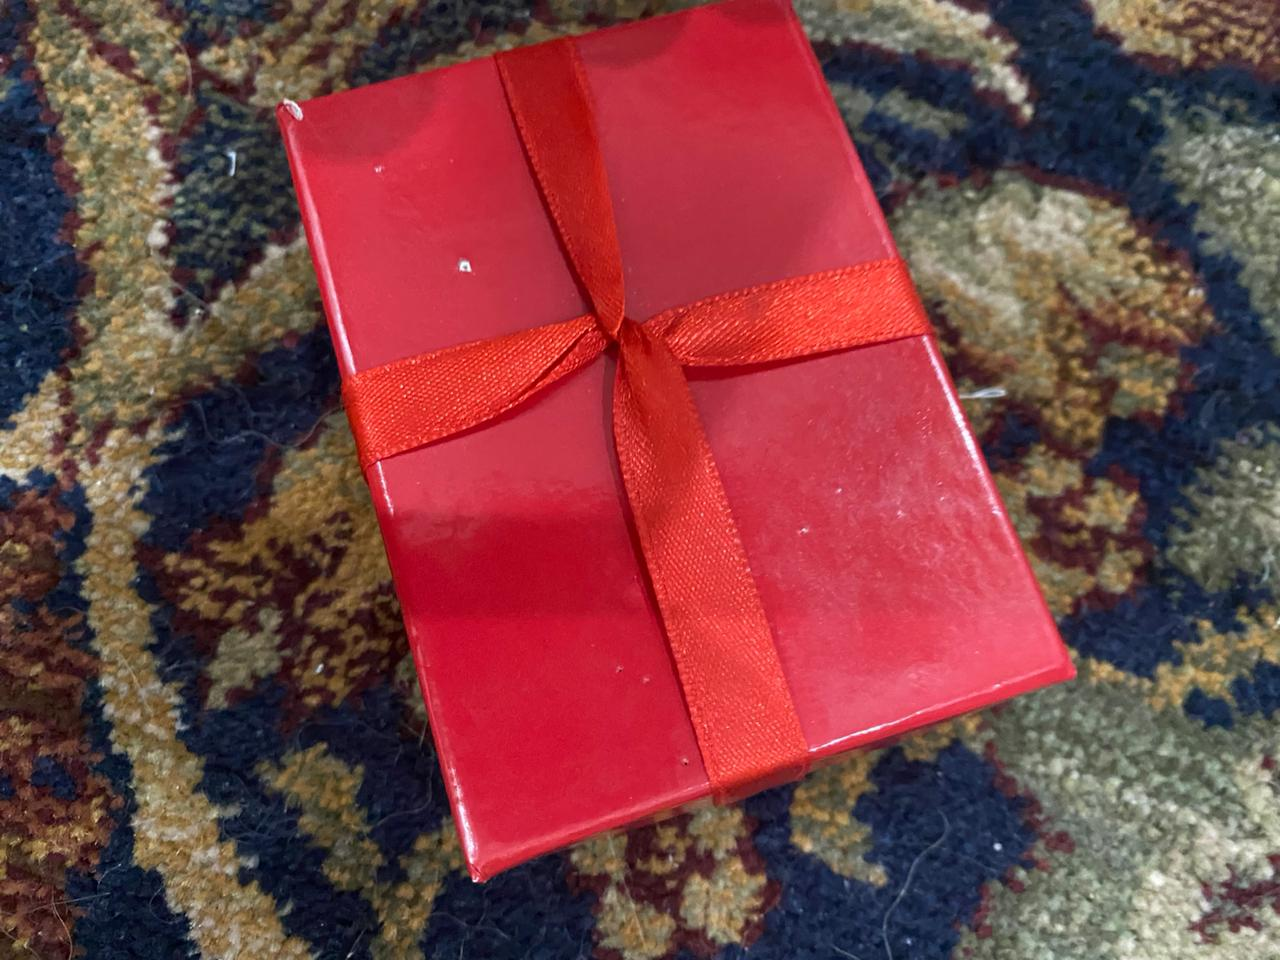Black Box: (271, 1, 1087, 892)
